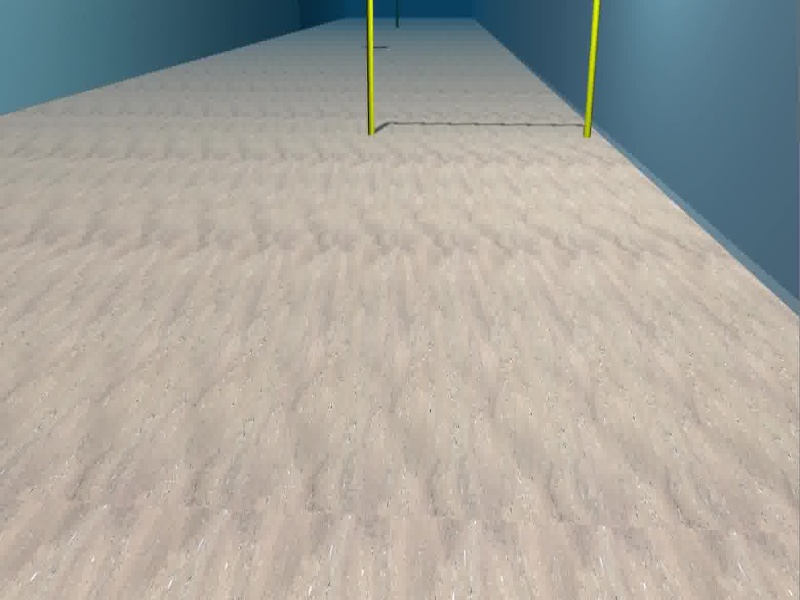gate: (367, 1, 601, 140)
